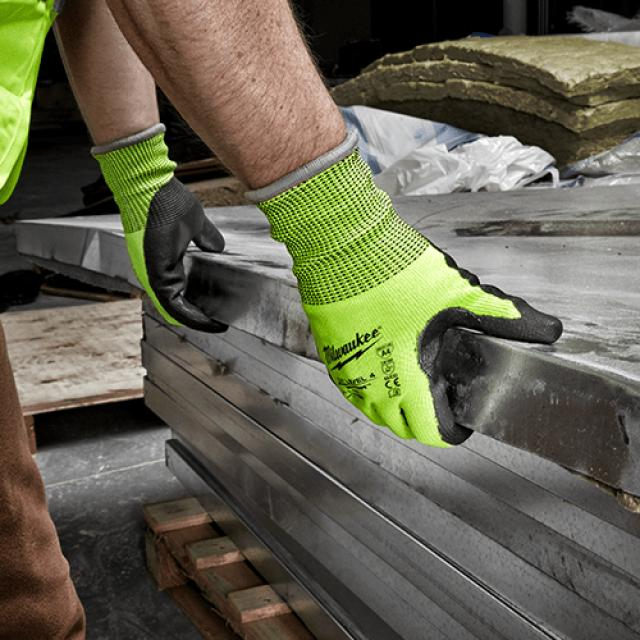gloves: (240, 119, 564, 448), (88, 123, 228, 333)
